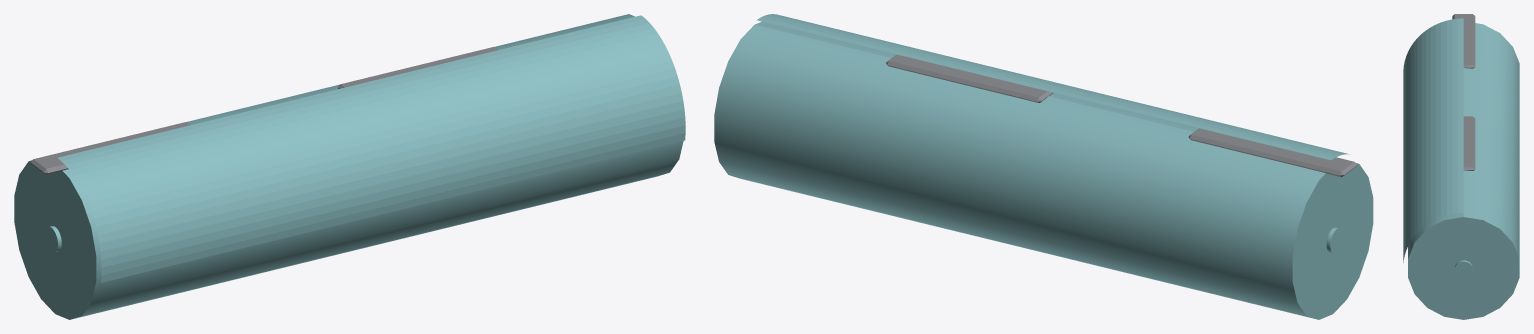
The model's file is yoga_mat_rolled.glb.
3 views of the same model, side by side, from view 1: azimuth 30°, elevation 25°; view 2: azimuth 150°, elevation 25°; view 3: azimuth 270°, elevation 25° (orthographic). The views are drawn at different scales.
Visible parts, largest first — view 1: yoga-mat-rolled; view 2: yoga-mat-rolled; view 3: yoga-mat-rolled.
Part boxes in pixels (box(x1,y1,x2,y2)): yoga-mat-rolled: box(14, 14, 685, 319); yoga-mat-rolled: box(714, 14, 1373, 319); yoga-mat-rolled: box(1403, 14, 1519, 319).
Bounding box in the file's own units: 0.635 × 0.155 × 0.1538.
